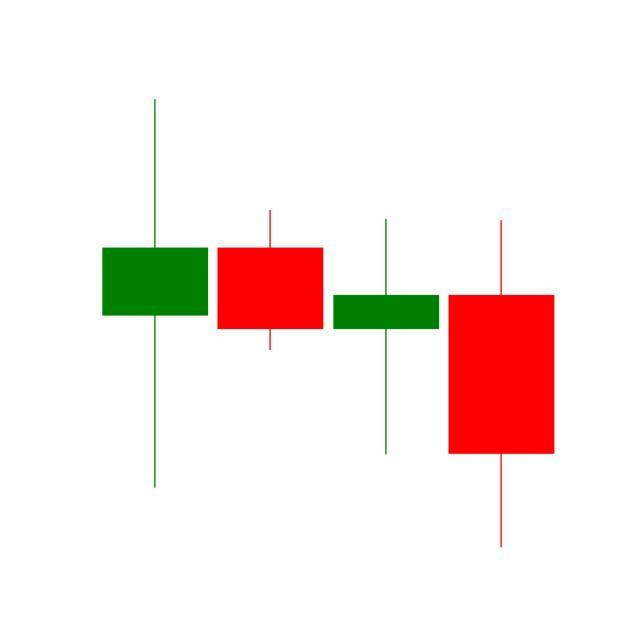Spinning Top: (329, 217, 445, 459)
